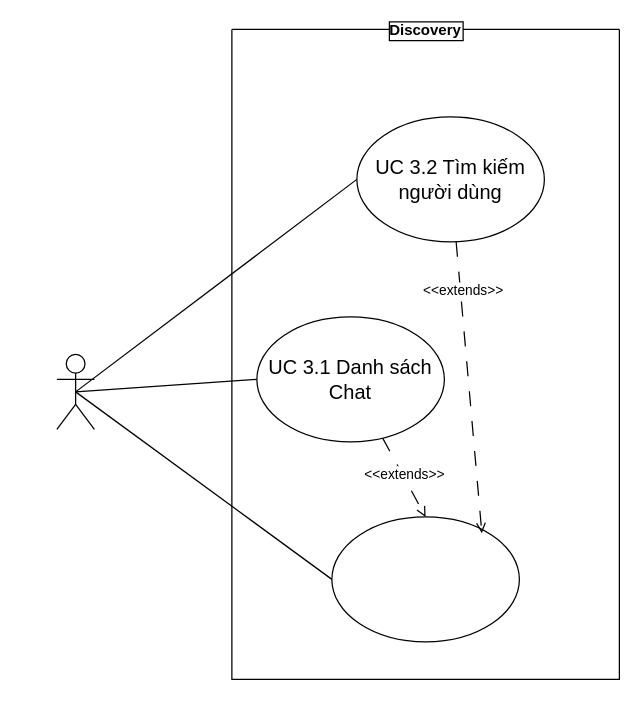
Image size: 641x701. Some labels were removed from this diagram. The shapes that lost their labels are listed below. From the top down, each one's centre as x and y in pixels, then its label:
pixel 75 391: Registered User
pixel 425 579: UC 3.3 Hiển thị trạng thái online
